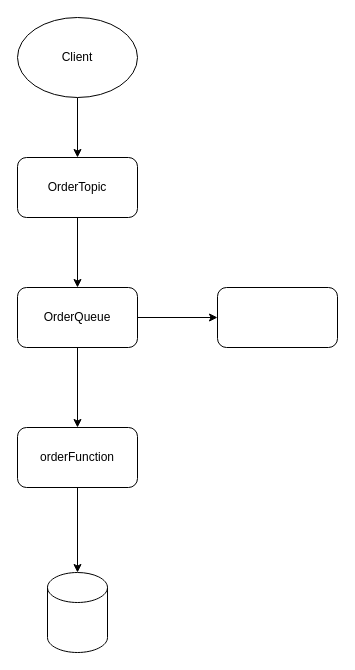
The diagram is 355 pixels wide and 670 high, and some of its shapes have lost their labels. Each missing label, with the box of its shape:
DLQQueue: (216, 286, 338, 348)
Orders: (46, 572, 108, 652)
